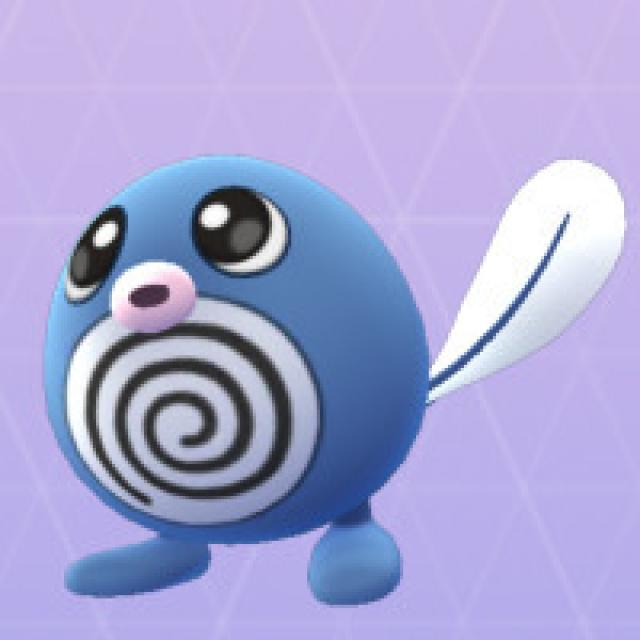Poliwag: (49, 153, 478, 620)
